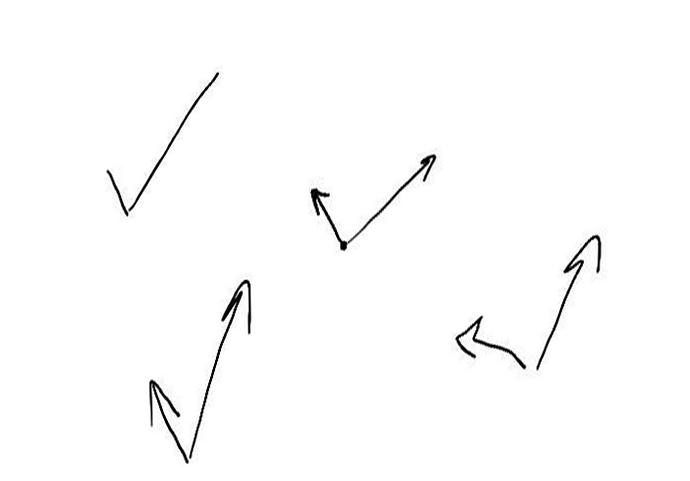arrow: (188, 279, 253, 455), (538, 232, 602, 366), (345, 151, 437, 242), (454, 313, 527, 372), (149, 381, 189, 460), (310, 187, 342, 244)
arrownohead: (130, 72, 219, 207), (108, 171, 128, 213)
